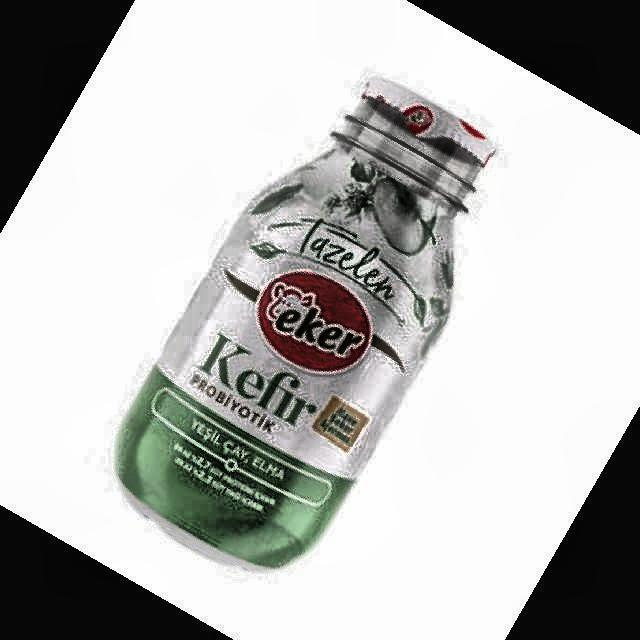plastic: (118, 80, 492, 567)
